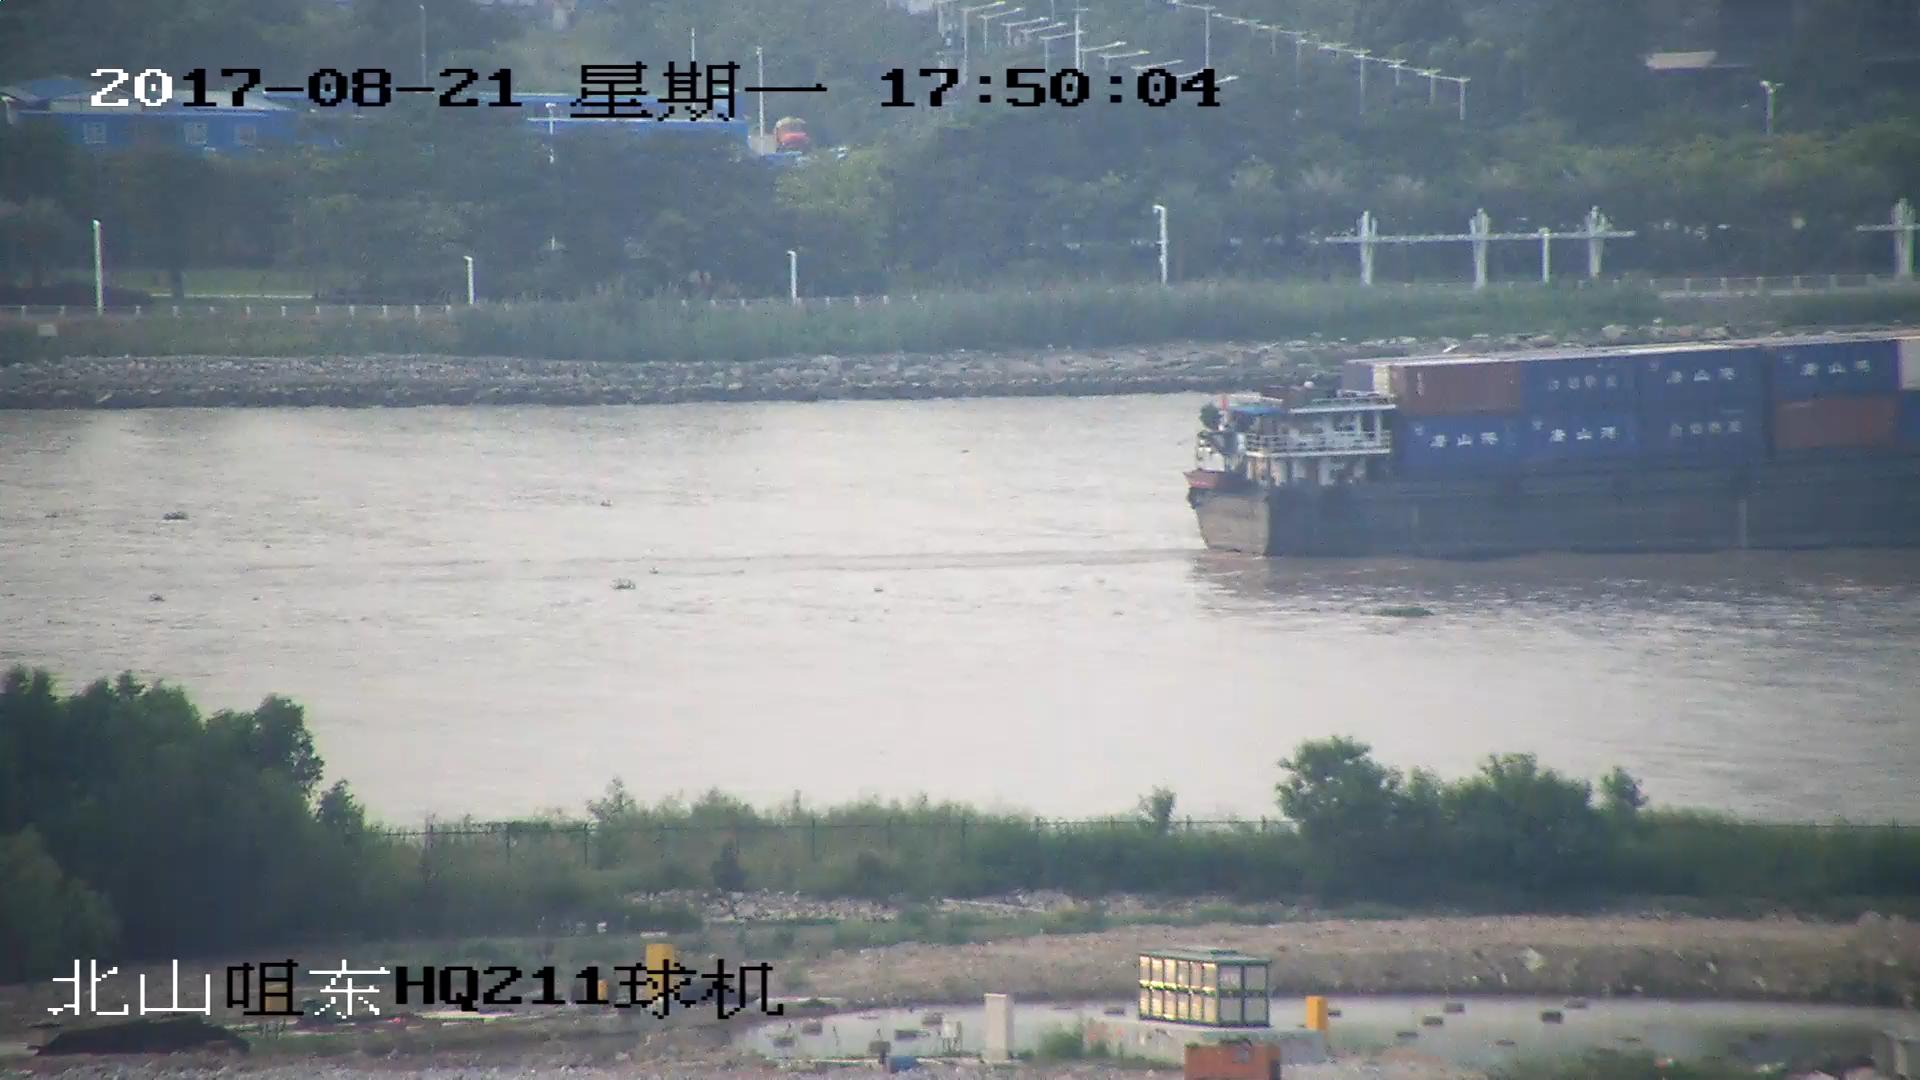container ship: (1185, 333, 1920, 555)
